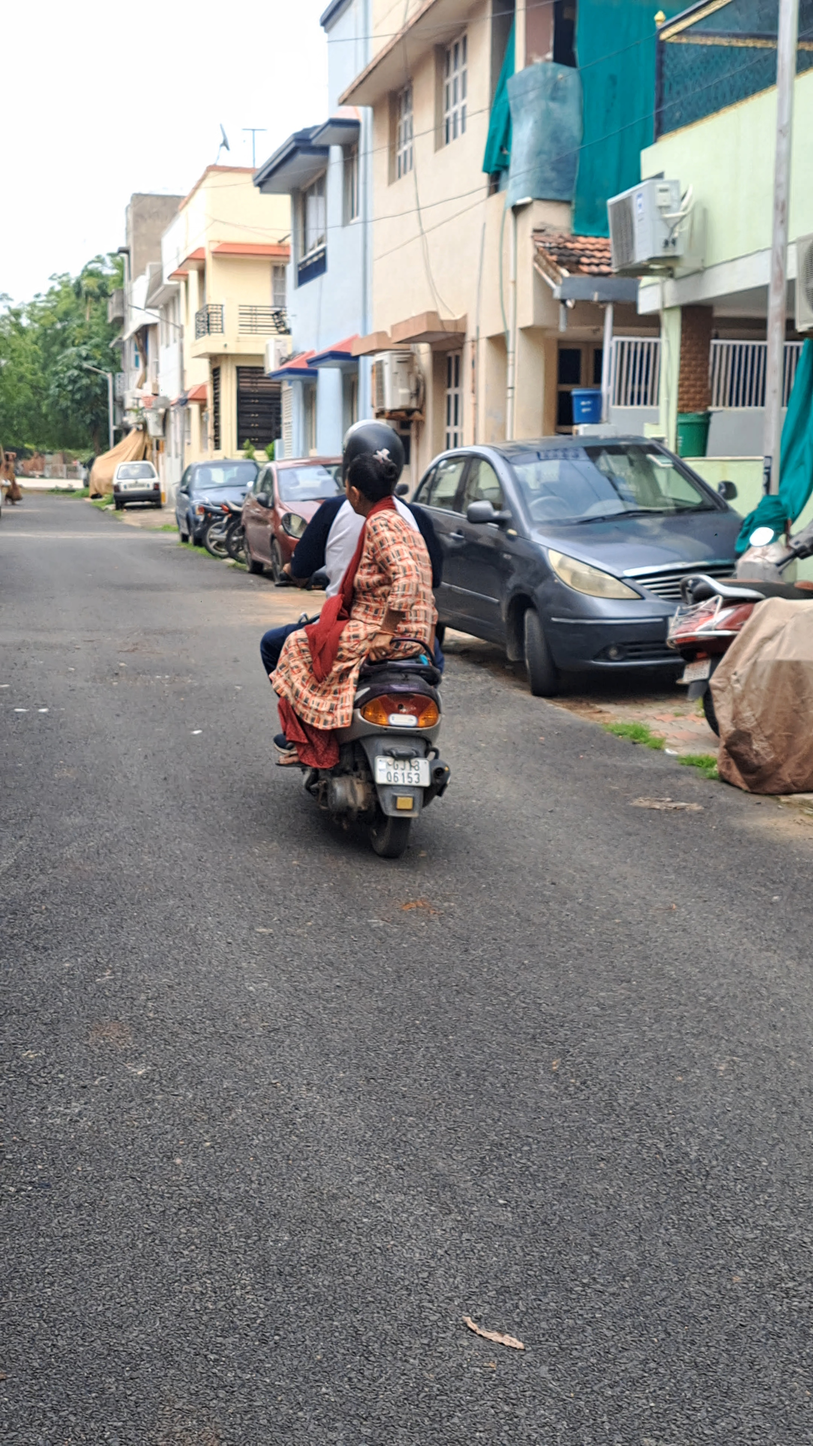BikeWithRider: (236, 377, 512, 875)
Helmet: (333, 413, 408, 490)
NoHelmet: (341, 454, 410, 519)
